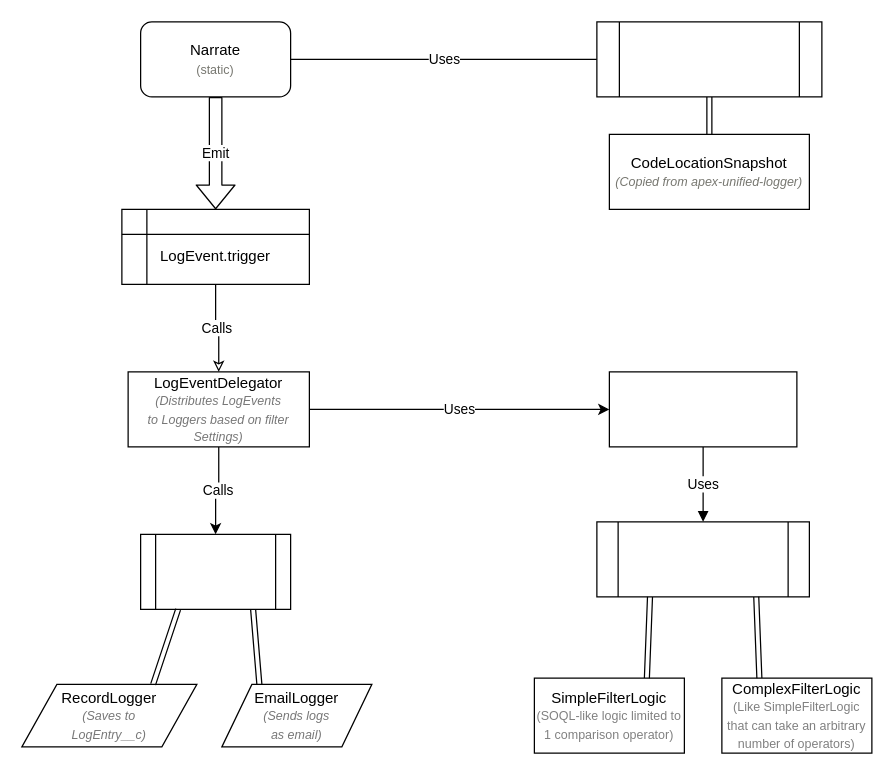
This 894x775 diagram has some shape labels left out. Each missing label, with the centre of its shape:
"ICodeLocationSnapshot (Extracts the Class, Method, and Line from a stacktrace)" belongs at (709,59).
"IFilterLogic (construct with string, pass in SObject, receive boolean)" belongs at (702,559).
"ILogger" belongs at (215,571).
"LoggingSettingsManager (static, evaluates filters based on Custom Metadata)" belongs at (702,409).
